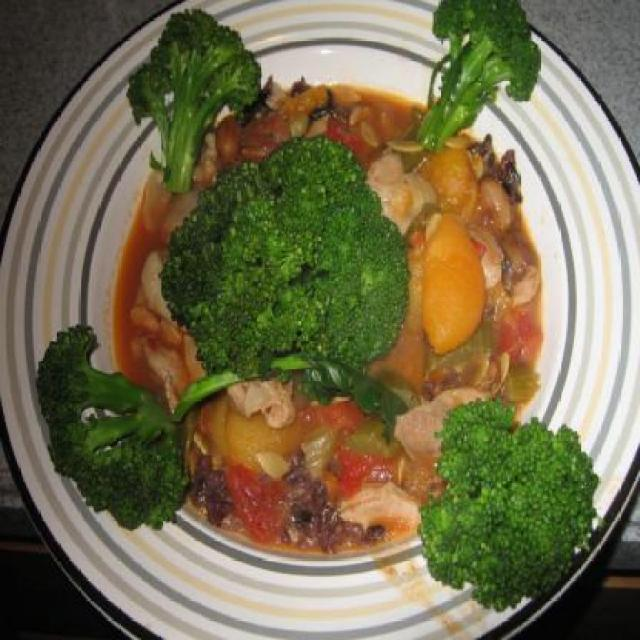Broccoli: (156, 132, 412, 374), (33, 322, 319, 530), (418, 392, 608, 614), (124, 7, 261, 190), (416, 0, 541, 152)
